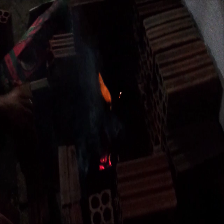fire_h: (98, 71, 112, 103)
fire_l: (99, 155, 111, 170), (118, 92, 122, 97)
